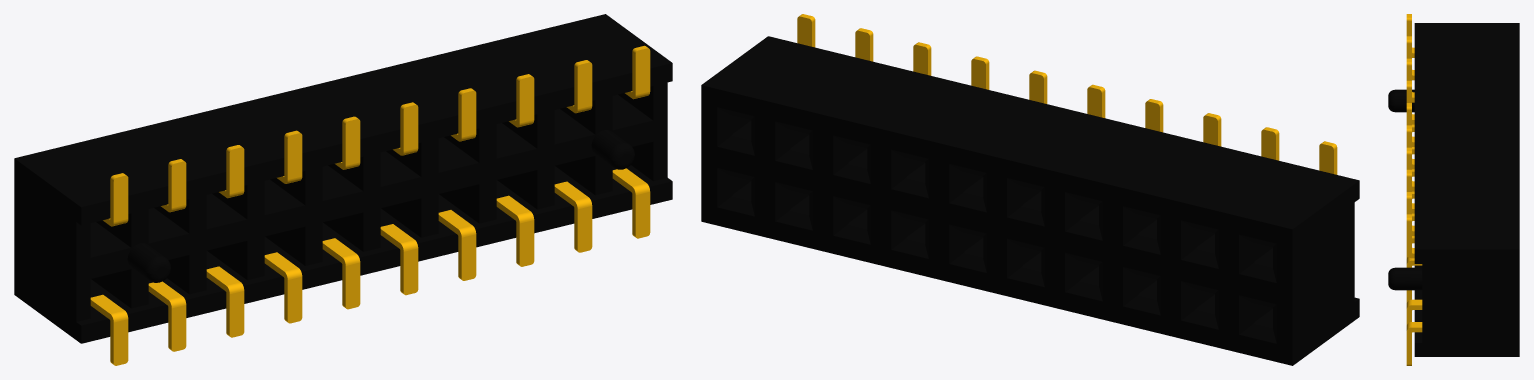
File: sfe-2x10_2.0mm_socket_smd_pegs-1.0mm_22815.glb
The picture shows the model from 3 angles, left to right: view 1: azimuth 30°, elevation 25°; view 2: azimuth 150°, elevation 25°; view 3: azimuth 270°, elevation 25°; orthographic projection. The views are drawn at different scales.
Parts seen in each view (by area): view 1: 0_0_0_0, 0.9166666666666666_0.5_0_0; view 2: 0_0_0_0, 0.9166666666666666_0.5_0_0; view 3: 0_0_0_0, 0.9166666666666666_0.5_0_0.
Part boxes in pixels (x1,y1,x2,y2): 0_0_0_0: (14,14,672,343); 0.9166666666666666_0.5_0_0: (90,45,650,365); 0_0_0_0: (701,36,1359,365); 0.9166666666666666_0.5_0_0: (797,14,1337,174); 0_0_0_0: (1388,23,1519,356); 0.9166666666666666_0.5_0_0: (1406,14,1422,365).
Size of the model in its own units: 2.04 by 0.62 by 0.5001.
